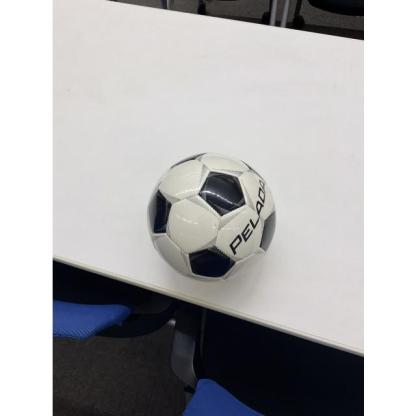ball: (146, 152, 275, 280)
